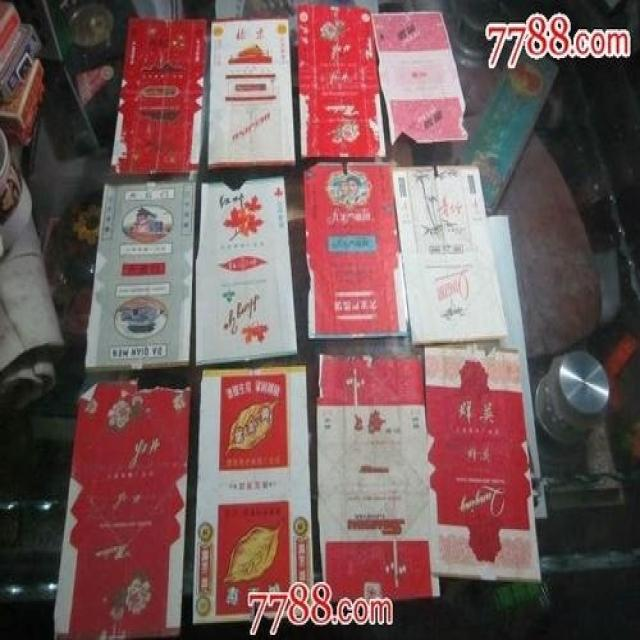box: (0, 24, 41, 104), (0, 60, 45, 130), (3, 80, 46, 147), (0, 3, 20, 55)
